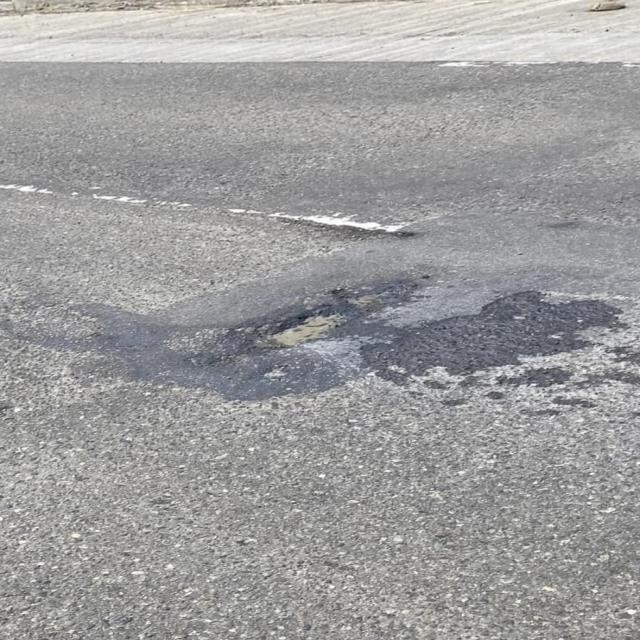pothole: (96, 202, 574, 442)
